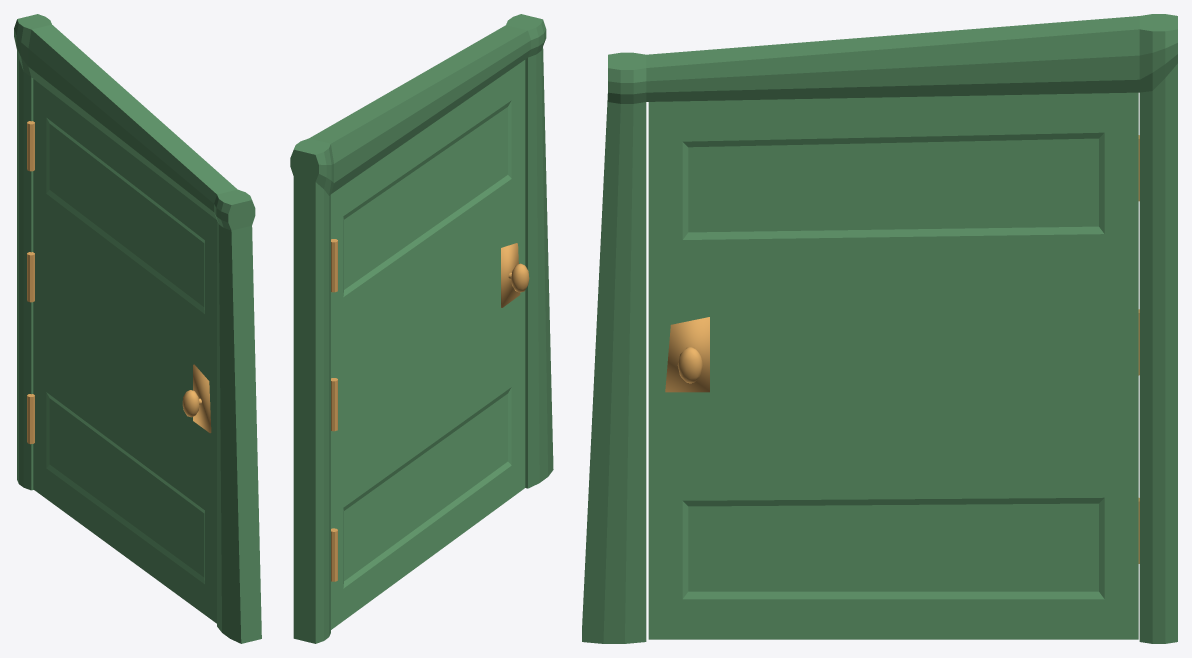
The model's file is door.fbx.
3 views of the same model, side by side, from view 1: azimuth 30°, elevation 25°; view 2: azimuth 150°, elevation 25°; view 3: azimuth 270°, elevation 25° (orthographic). The views are drawn at different scales.
Visible parts, largest first — view 1: Door, Door Frame; view 2: Door, Door Frame; view 3: Door, Door Frame.
Boxes of the visible parts, box(x1,y1,x2,y2) form: Door: box(27, 79, 216, 623); Door Frame: box(14, 14, 261, 643); Door: box(331, 60, 529, 629); Door Frame: box(290, 14, 553, 643); Door: box(648, 92, 1139, 639); Door Frame: box(582, 14, 1177, 643).
Bounding box in the file's own units: 52.02 × 376 × 427.
